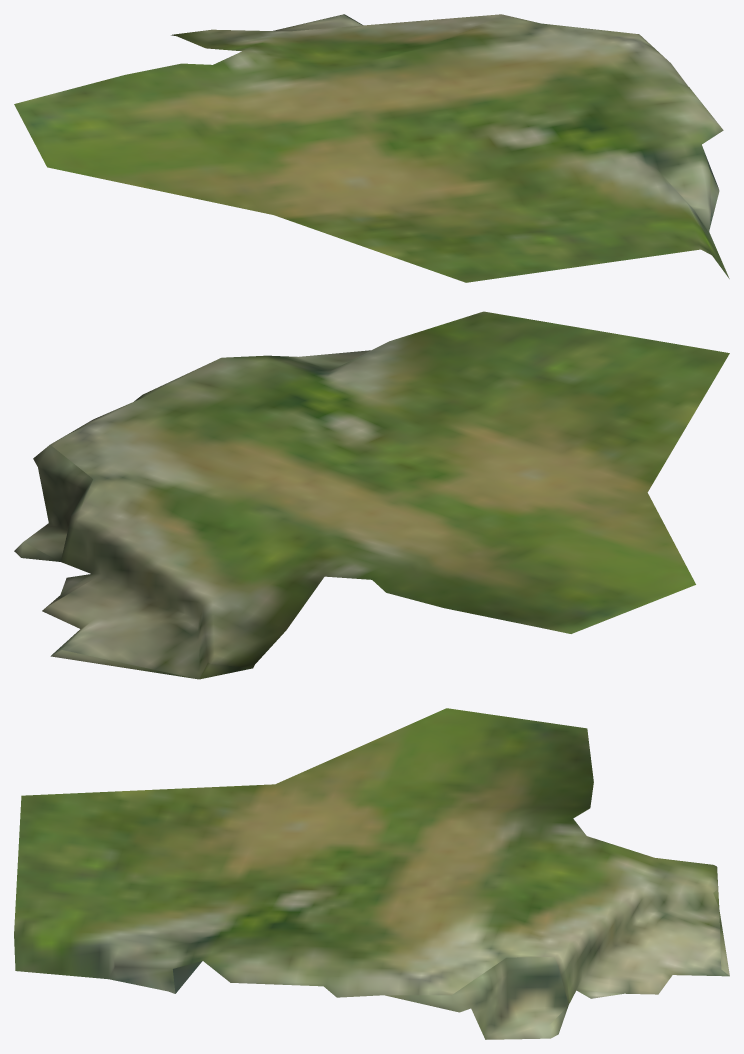
The model's file is S_Rock_Green054_1060_20.fbx.
3 views of the same model, one above another, from view 1: azimuth 30°, elevation 25°; view 2: azimuth 150°, elevation 25°; view 3: azimuth 270°, elevation 25° (orthographic). The views are drawn at different scales.
Visible parts, largest first — view 1: S_Rock_Green054_1060_20; view 2: S_Rock_Green054_1060_20; view 3: S_Rock_Green054_1060_20.
Boxes of the visible parts, x1,y1,x2,y2 form: S_Rock_Green054_1060_20: [14, 14, 729, 282]; S_Rock_Green054_1060_20: [14, 311, 729, 679]; S_Rock_Green054_1060_20: [14, 708, 729, 1039].
Size of the model in its own units: 976 by 110 by 1057.
Materials: 1 (1 with a texture image).
